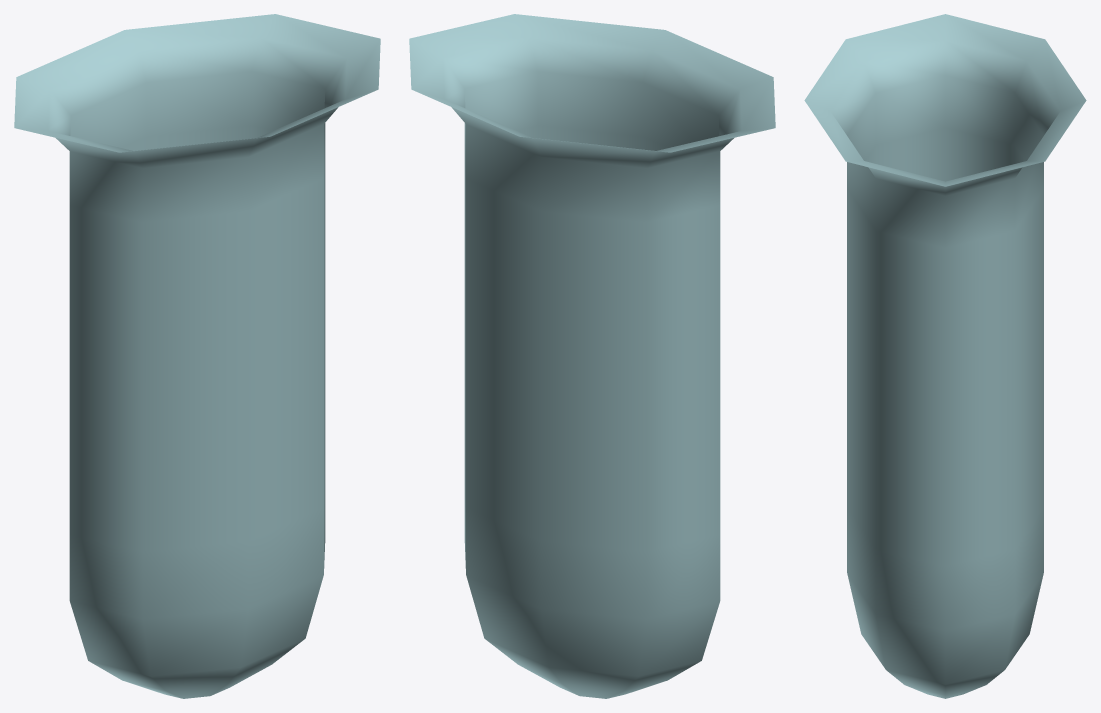
File: Prop_Cloning.fbx
3 views of the same model, side by side, from view 1: azimuth 30°, elevation 25°; view 2: azimuth 150°, elevation 25°; view 3: azimuth 270°, elevation 25° (orthographic). The views are drawn at different scales.
Parts seen in each view (by area): view 1: Cloning; view 2: Cloning; view 3: Cloning.
Part boxes in pixels (box(x1,y1,x2,y2)): Cloning: box(14, 14, 380, 698); Cloning: box(409, 14, 775, 698); Cloning: box(804, 14, 1086, 698).
Bounding box in the file's own units: 5.82 × 9.15 × 4.01.
